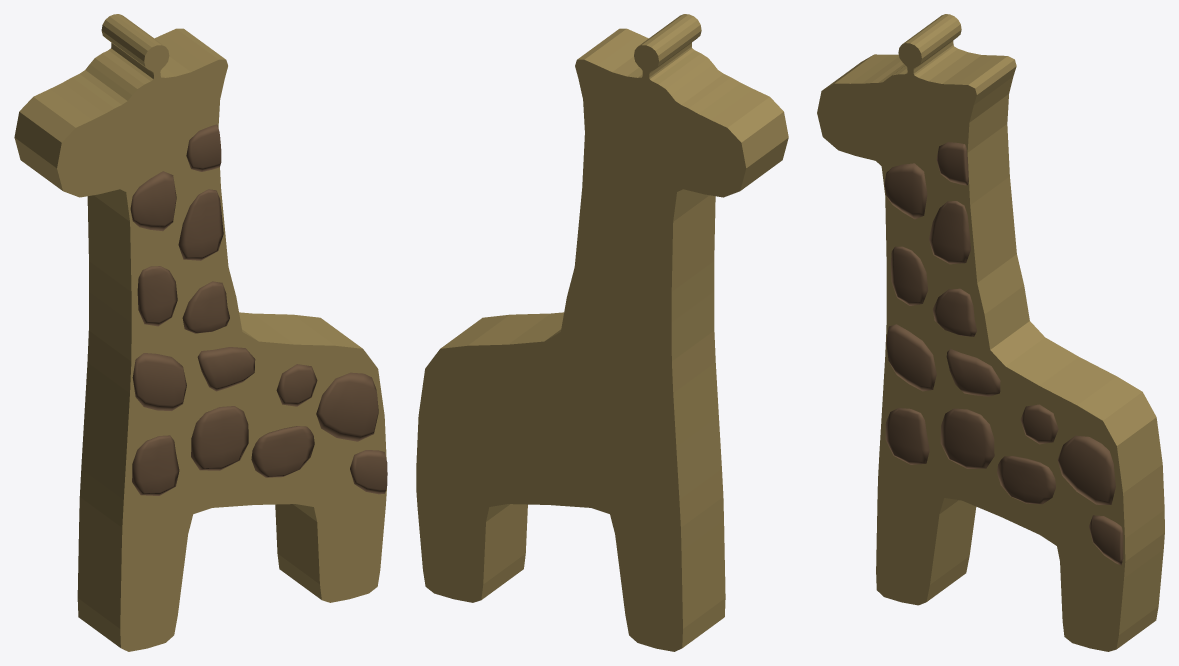
3 views of the same model, side by side, from view 1: azimuth 30°, elevation 25°; view 2: azimuth 150°, elevation 25°; view 3: azimuth 330°, elevation 25° (orthographic). The views are drawn at different scales.
Visible parts, largest first — view 1: 平面, 立方体.006, 立方体.001, 立方体.007, 立方体.013, 立方体.012, 立方体, 立方体.010, 立方体.008, 立方体.004, 立方体.009, 立方体.014 (+2 smaller); view 2: 平面; view 3: 平面, 立方体.006, 立方体.001, 立方体.007, 立方体.013, 立方体.012, 立方体, 立方体.010, 立方体.008, 立方体.004, 立方体.009, 立方体.014 (+2 smaller).
Boxes of the visible parts, x1,y1,x2,y2 form: 平面: [14, 14, 386, 651]; 立方体.006: [316, 372, 378, 441]; 立方体.001: [191, 406, 248, 470]; 立方体.007: [132, 353, 186, 410]; 立方体.013: [251, 426, 314, 477]; 立方体.012: [178, 189, 223, 260]; 立方体: [132, 435, 179, 495]; 立方体.010: [130, 171, 176, 231]; 立方体.008: [137, 266, 177, 326]; 立方体.004: [197, 347, 255, 391]; 立方体.009: [182, 281, 229, 333]; 立方体.014: [350, 450, 387, 494]; 平面: [416, 14, 788, 651]; 平面: [817, 14, 1164, 651]; 立方体.006: [1057, 435, 1115, 504]; 立方体.001: [940, 408, 994, 468]; 立方体.007: [886, 324, 936, 391]; 立方体.013: [997, 456, 1055, 504]; 立方体.012: [929, 201, 970, 264]; 立方体: [885, 408, 929, 464]; 立方体.010: [884, 163, 927, 219]; 立方体.008: [890, 246, 928, 305]; 立方体.004: [946, 349, 1000, 396]; 立方体.009: [932, 288, 976, 336]; 立方体.014: [1089, 515, 1123, 565].
Size of the model in its own units: 3.06 by 5.32 by 0.7577.
